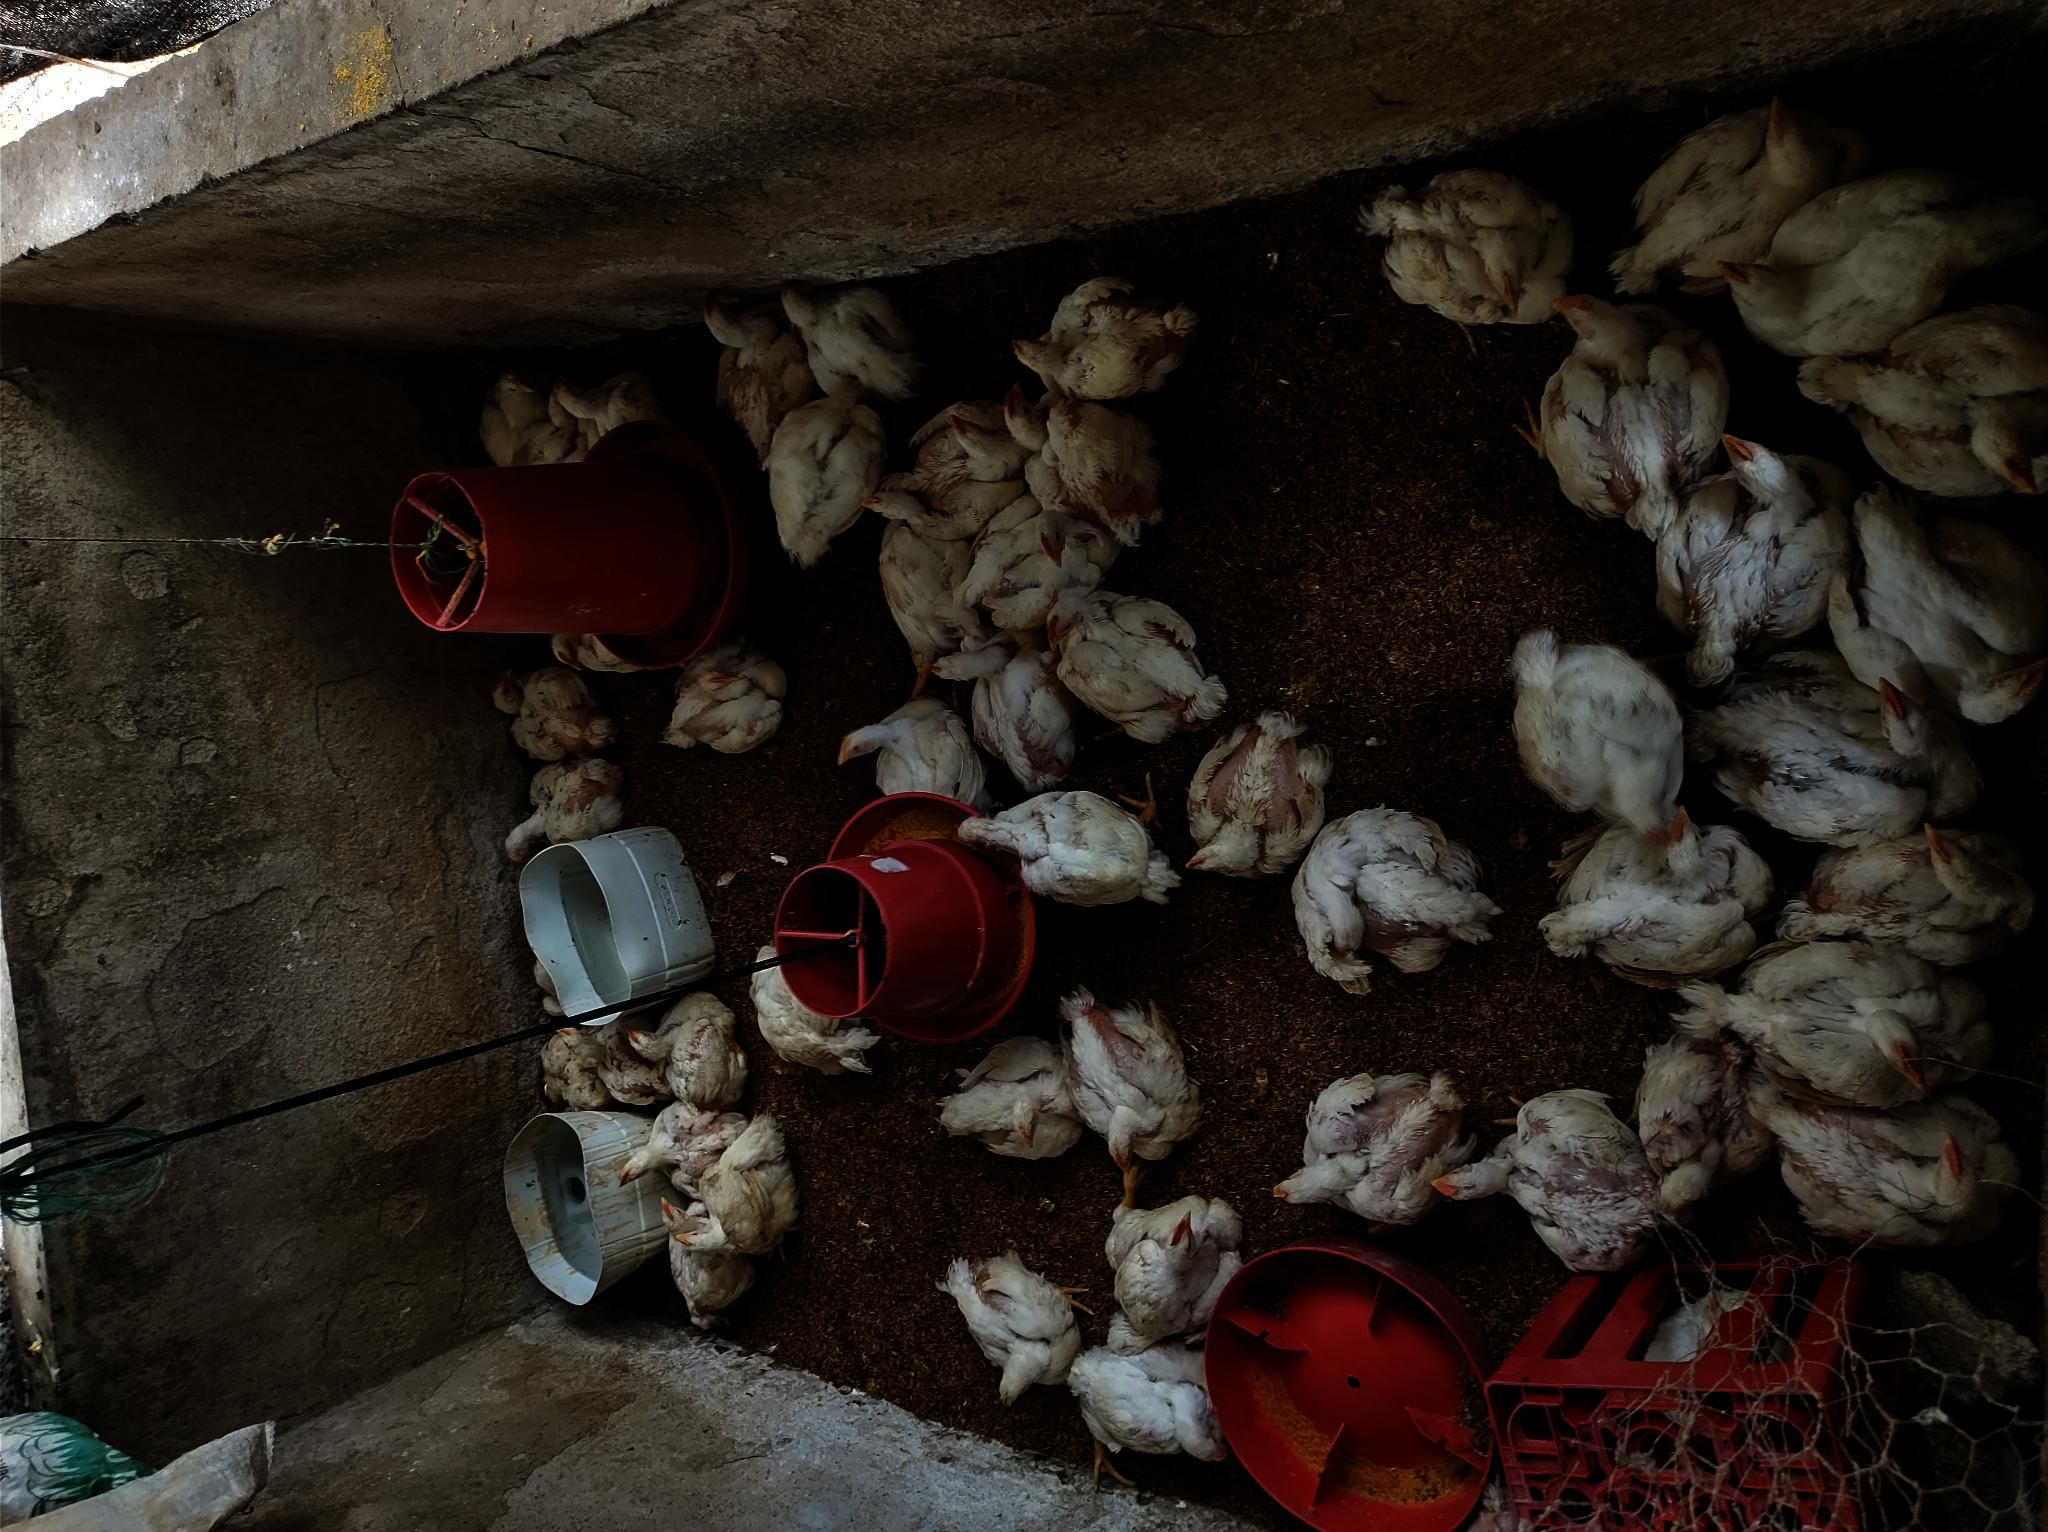Pollos: (1813, 480, 2048, 723), (1707, 636, 1974, 846), (1515, 278, 1729, 536), (1696, 179, 2008, 349), (1488, 612, 1707, 843), (1713, 940, 2006, 1104), (1754, 1077, 2025, 1249), (1646, 426, 1824, 681), (1813, 319, 2048, 509), (1421, 1085, 1667, 1262), (1282, 801, 1498, 993), (1528, 813, 1765, 986), (1618, 92, 1818, 294), (1366, 158, 1573, 333), (1781, 813, 2045, 949), (1258, 1069, 1474, 1229), (1054, 983, 1215, 1183), (851, 488, 1022, 666), (952, 784, 1170, 912), (1004, 266, 1200, 406), (1176, 710, 1334, 883), (1626, 1032, 1779, 1209), (1046, 589, 1224, 740), (1097, 1184, 1253, 1345), (1047, 1347, 1228, 1474), (940, 1249, 1070, 1418), (763, 394, 885, 566), (745, 932, 885, 1081), (928, 645, 1080, 780), (676, 1110, 803, 1263), (1033, 389, 1145, 562), (960, 502, 1107, 632), (941, 1043, 1088, 1167), (772, 278, 920, 396), (832, 697, 980, 813), (496, 753, 623, 872), (652, 647, 792, 755), (695, 291, 800, 434), (621, 988, 743, 1102), (655, 1194, 759, 1323), (479, 661, 613, 760), (891, 406, 1018, 489), (615, 1102, 724, 1191), (997, 391, 1068, 523), (470, 365, 570, 455), (545, 365, 656, 439), (537, 628, 637, 681), (534, 1027, 607, 1099)
